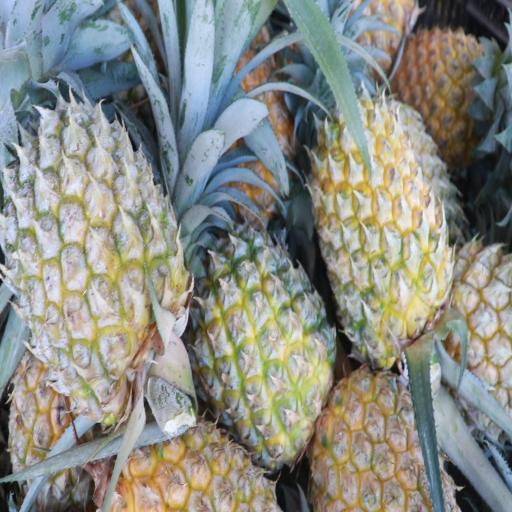------------------------------: (10, 121, 179, 403), (198, 235, 328, 449)
Pineapple - v8 v1: (314, 101, 450, 353), (318, 371, 452, 512), (398, 22, 507, 156)
